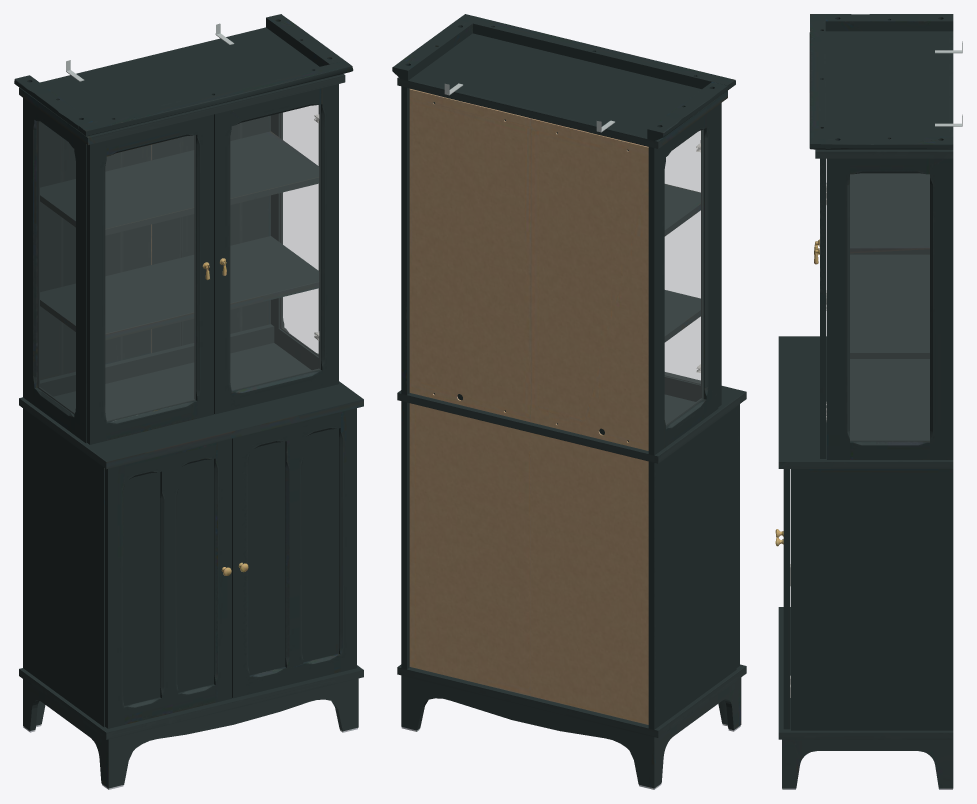
File: lommarp_szafka_z_drzwiami_szklanymi_40383737.glb
3 renders of one model, left to right at view 1: azimuth 30°, elevation 25°; view 2: azimuth 150°, elevation 25°; view 3: azimuth 270°, elevation 25°, orthographic.
Visible parts, largest first — view 1: lommarp_szafka_z_drzwiami_szklanymi_40383737; view 2: lommarp_szafka_z_drzwiami_szklanymi_40383737; view 3: lommarp_szafka_z_drzwiami_szklanymi_40383737.
Boxes of the visible parts, <box> form: lommarp_szafka_z_drzwiami_szklanymi_40383737: <box>14,14,363,789</box>; lommarp_szafka_z_drzwiami_szklanymi_40383737: <box>392,14,746,789</box>; lommarp_szafka_z_drzwiami_szklanymi_40383737: <box>775,14,962,789</box>.
Bounding box in the file's own units: 0.8562 × 1.99 × 0.5191.
Materials: 2 (2 with a texture image).
